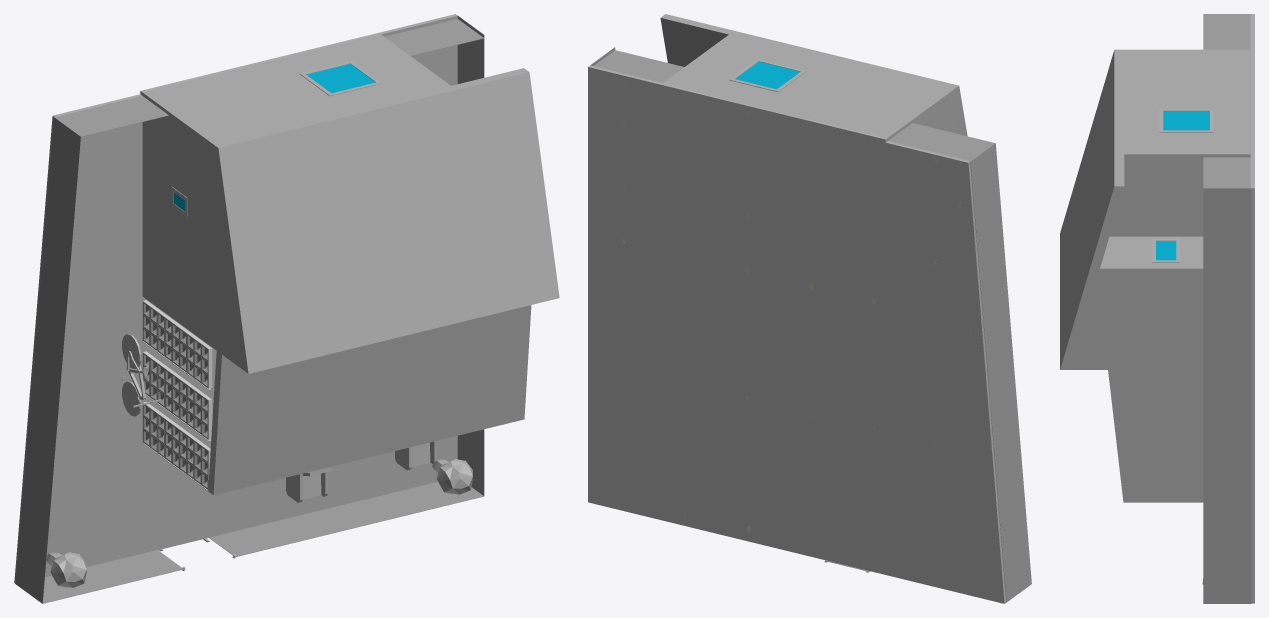
3 views of the same model, side by side, from view 1: azimuth 30°, elevation 25°; view 2: azimuth 150°, elevation 25°; view 3: azimuth 270°, elevation 25° (orthographic). The views are drawn at different scales.
Visible parts, largest first — view 1: FootPrintRoof Roofs <625490 150T_50Pur_CGI>, Floor Floors <466090 200T_19PBd_Wood Finish>, FootPrintRoof Roofs <625384 150T_50Pur_CGI>, Wall Walls <453497 90T_25Linea_10Gb>, Wall Walls <764284 Glass railing>, Wall Walls <453496 90T_25Linea_10Gb>, Wall Walls <747257 Glass railing>, Wall Walls <713876 90T_25Linea_BS>, Wall Walls <746866 Glass railing>, Wall Walls <747190 Glass railing>, Wall Walls <747030 Glass railing>, FamilySymbol Planting <687133 Enscape AssetDefinition - Pott (×2) (+4 smaller); view 2: Floor Floors <466090 200T_19PBd_Wood Finish>, Floor Floors <238856 Generic 150mm>, Floor Floors <453533 Generic 150mm>, Wall Walls <453497 90T_25Linea_10Gb>, Wall Walls <764284 Glass railing>, FootPrintRoof Roofs <625490 150T_50Pur_CGI>, Wall Walls <747030 Glass railing>, Wall Walls <453496 90T_25Linea_10Gb>, Wall Walls <747119 Glass railing>, FamilySymbol Windows <454179 APL Metro Series Awning 1200 x ; view 3: Wall Walls <453500 90T_25Linea_10Gb REd>, Wall Walls <747190 Glass railing>, Wall Walls <453497 90T_25Linea_10Gb>, FootPrintRoof Roofs <625490 150T_50Pur_CGI>, Wall Walls <453498 90T_25Linea_10Gb Paint finish woodland gr, Wall Walls <453499 90T_25Linea_10Gb REd>, Floor Floors <466090 200T_19PBd_Wood Finish>, Wall Walls <747030 Glass railing>, Wall Walls <747119 Glass railing>, FootPrintRoof Roofs <625384 150T_50Pur_CGI>, FamilySymbol Windows <454179 APL Metro Series Awning 1200 x , FamilySymbol Windows <716640 APL Metro Series Awning 1200 x  (+3 smaller).
Part boxes in pixels (x1,y1,x2,y2): FootPrintRoof Roofs <625490 150T_50Pur_CGI>: [213, 68, 559, 373]; Floor Floors <466090 200T_19PBd_Wood Finish>: [14, 14, 457, 583]; FootPrintRoof Roofs <625384 150T_50Pur_CGI>: [208, 305, 531, 495]; Wall Walls <453497 90T_25Linea_10Gb>: [149, 34, 450, 142]; Wall Walls <764284 Glass railing>: [16, 117, 80, 603]; Wall Walls <453496 90T_25Linea_10Gb>: [142, 91, 233, 303]; Wall Walls <747257 Glass railing>: [209, 482, 483, 556]; Wall Walls <713876 90T_25Linea_BS>: [142, 237, 242, 369]; Wall Walls <746866 Glass railing>: [16, 550, 183, 603]; Wall Walls <747190 Glass railing>: [457, 15, 484, 495]; Wall Walls <747030 Glass railing>: [54, 96, 168, 136]; FamilySymbol Planting <687133 Enscape AssetDefinition - Pott (×2): [46, 459, 472, 587]; Floor Floors <466090 200T_19PBd_Wood Finish>: [588, 65, 1006, 603]; Floor Floors <238856 Generic 150mm>: [592, 83, 887, 451]; Floor Floors <453533 Generic 150mm>: [598, 94, 879, 449]; Wall Walls <453497 90T_25Linea_10Gb>: [663, 34, 947, 136]; Wall Walls <764284 Glass railing>: [970, 143, 1031, 602]; FootPrintRoof Roofs <625490 150T_50Pur_CGI>: [660, 14, 967, 136]; Wall Walls <747030 Glass railing>: [888, 123, 995, 161]; Wall Walls <453496 90T_25Linea_10Gb>: [881, 88, 961, 140]; Wall Walls <747119 Glass railing>: [593, 50, 684, 82]; FamilySymbol Windows <454179 APL Metro Series Awning 1200 x : [729, 59, 806, 91]; Wall Walls <453500 90T_25Linea_10Gb REd>: [1070, 274, 1203, 496]; Wall Walls <747190 Glass railing>: [1203, 188, 1251, 603]; Wall Walls <453497 90T_25Linea_10Gb>: [1124, 52, 1251, 160]; FootPrintRoof Roofs <625490 150T_50Pur_CGI>: [1060, 49, 1124, 369]; Wall Walls <453498 90T_25Linea_10Gb Paint finish woodland gr: [1109, 160, 1203, 236]; Wall Walls <453499 90T_25Linea_10Gb REd>: [1098, 236, 1203, 274]; Floor Floors <466090 200T_19PBd_Wood Finish>: [1250, 14, 1254, 603]; Wall Walls <747030 Glass railing>: [1203, 14, 1250, 49]; Wall Walls <747119 Glass railing>: [1203, 157, 1250, 188]; FootPrintRoof Roofs <625384 150T_50Pur_CGI>: [1108, 369, 1132, 502]; FamilySymbol Windows <454179 APL Metro Series Awning 1200 x : [1159, 109, 1213, 132]; FamilySymbol Windows <716640 APL Metro Series Awning 1200 x : [1152, 239, 1179, 262].
Bounding box in the file's own units: 10471 × 10510 × 4441.
